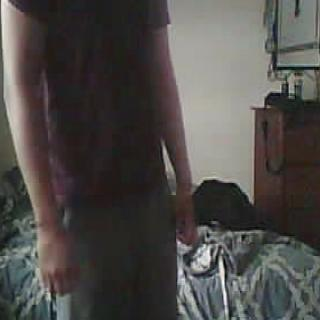Gray Sweatpants: (57, 201, 177, 320)
Maroon T-Shirt: (1, 0, 175, 198)
